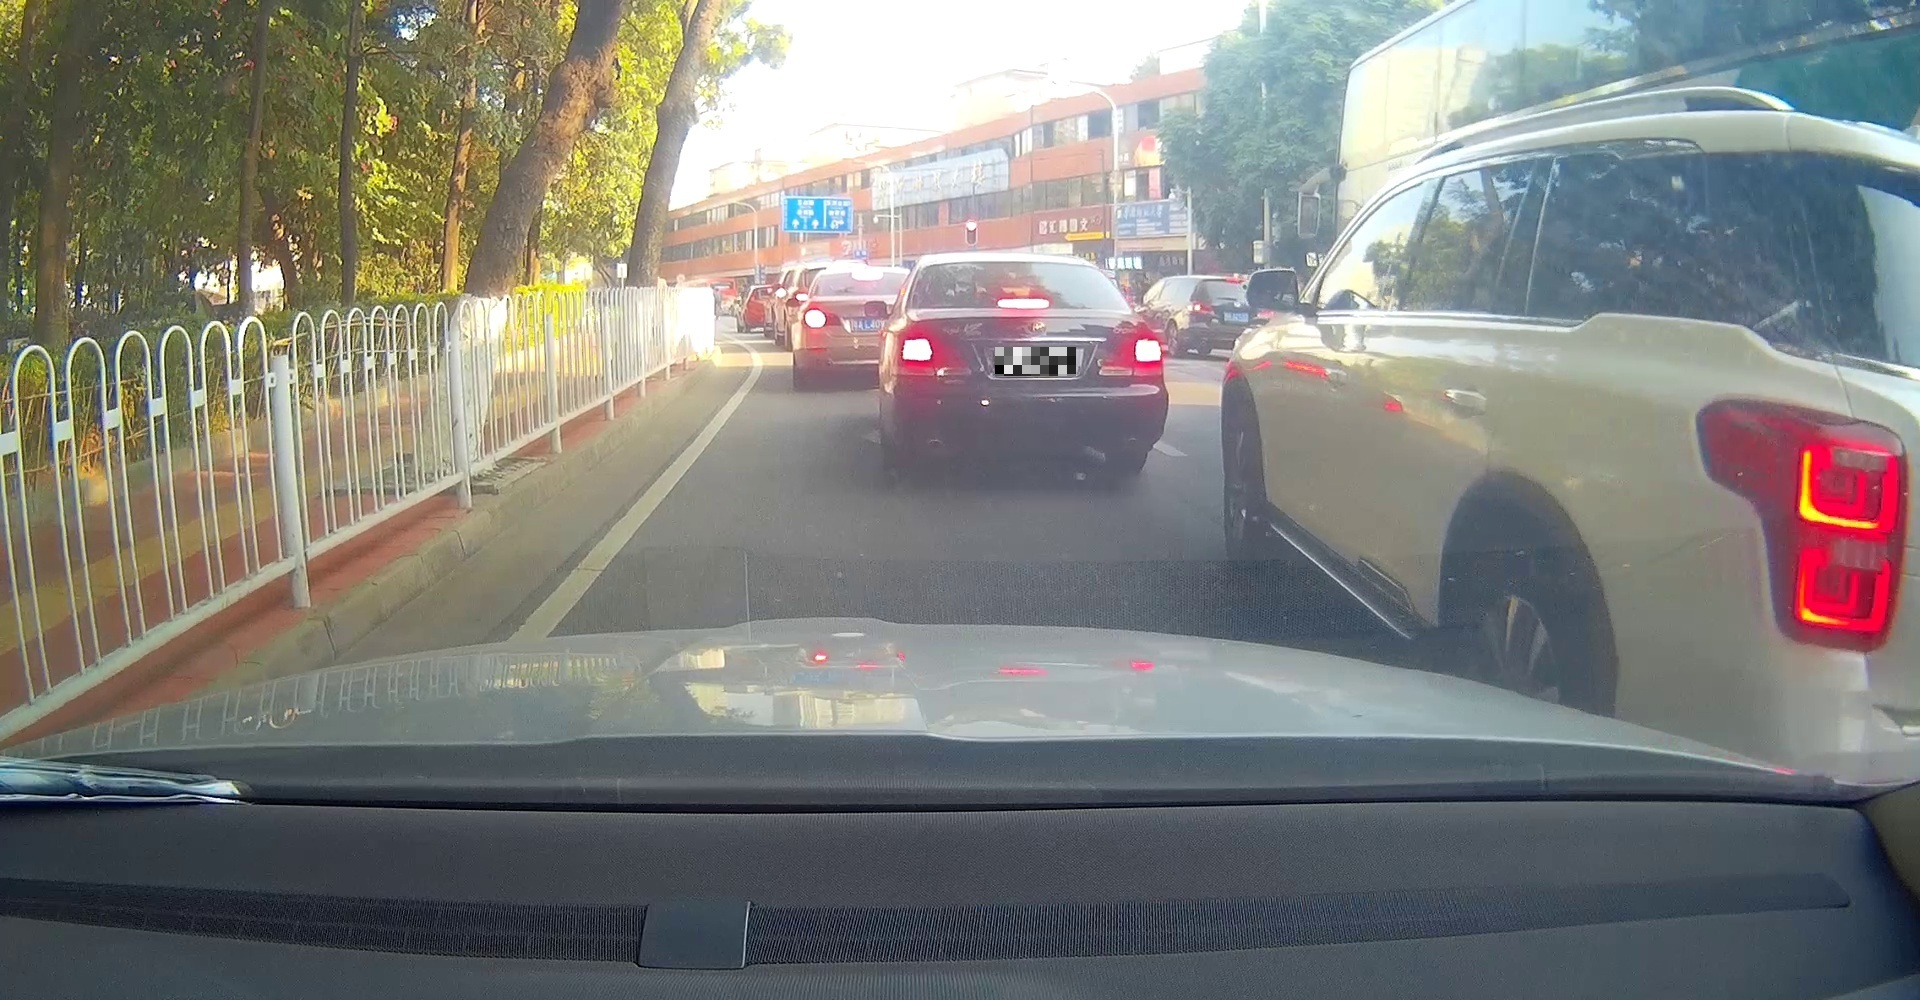L_light: (897, 332, 954, 367)
R_light: (1110, 330, 1162, 369)
T_light: (996, 298, 1049, 308)
day-brake: (897, 253, 1164, 471)
plate_1: (996, 346, 1076, 376)
